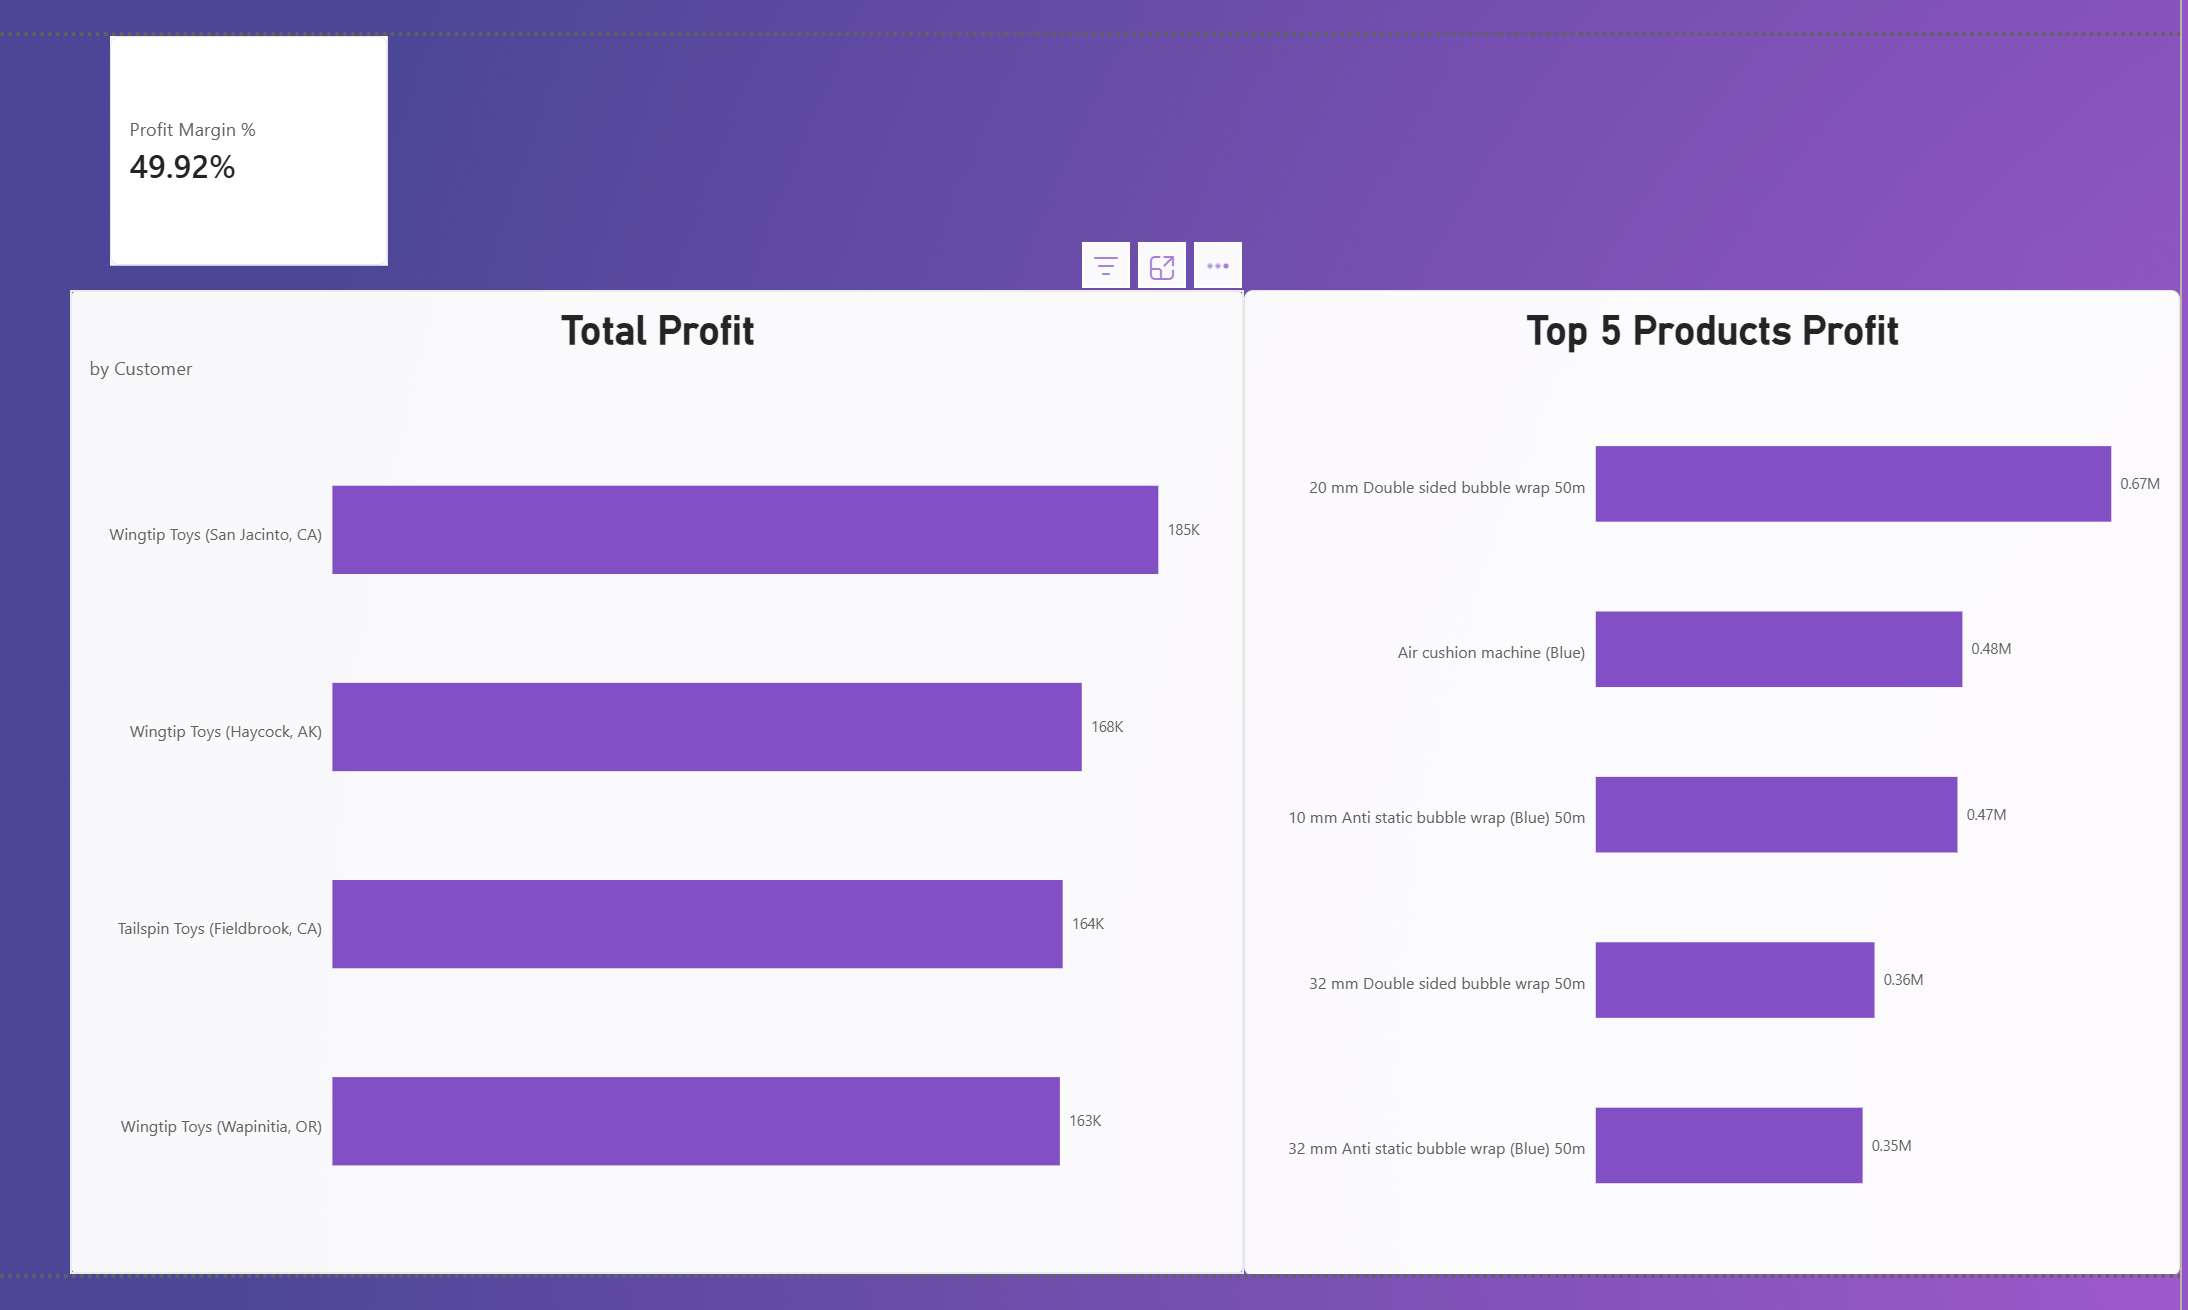

Layout of this report page (visuals, bound fields, positions):
{"tool":"powerbi","page":{"name":"Top 5 cus","canvas":[1920,1080],"ordinal":3},"visuals":[{"type":"clusteredBarChart","fields":{"Category":["DimCustomer5.Customer"],"Y":["Key Measures.Total Profit"]},"box":[78.5,221.7,1024.6,858.8],"z":0},{"type":"clusteredBarChart","title":"Top 5 Products Profit","fields":{"Category":["DimStockItem2.Stock Item"],"Y":["Key Measures.Total Profit"]},"box":[1103.1,221.7,816.9,860.5],"z":1},{"type":"cardVisual","fields":{"Data":["Key Measures.Profit Margin %"]},"box":[113.5,0,242.6,200.7],"z":2}]}

Visuals, with their boxes on the page's 1920x1080 design canvas (x1, y1, x2, y2). These are canvas units, not pixel positions in the 2188x1310 screenshot, which may show the page scaled, cropped or inside an application window:
clusteredBarChart - DimCustomer5.Customer x Key Measures.Total Profit: [left=78, top=222, right=1103, bottom=1080]
"Top 5 Products Profit" clusteredBarChart: [left=1103, top=222, right=1920, bottom=1082]
cardVisual - Key Measures.Profit Margin %: [left=114, top=0, right=356, bottom=201]
